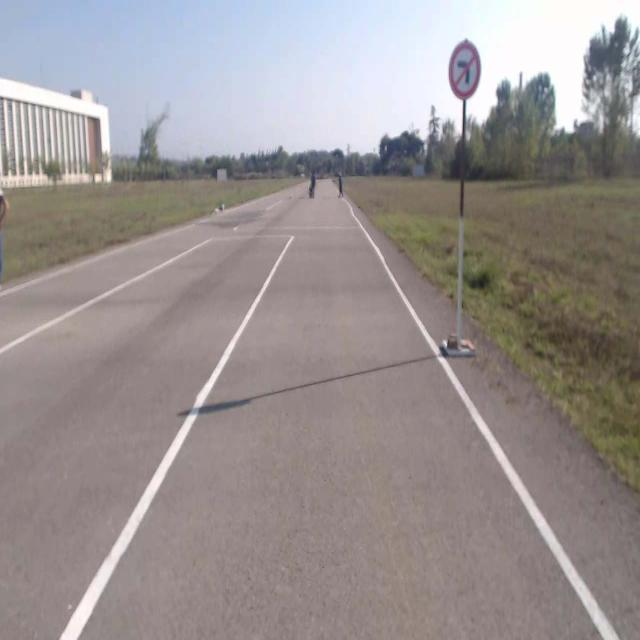soladonulmez: (449, 40, 479, 100)
